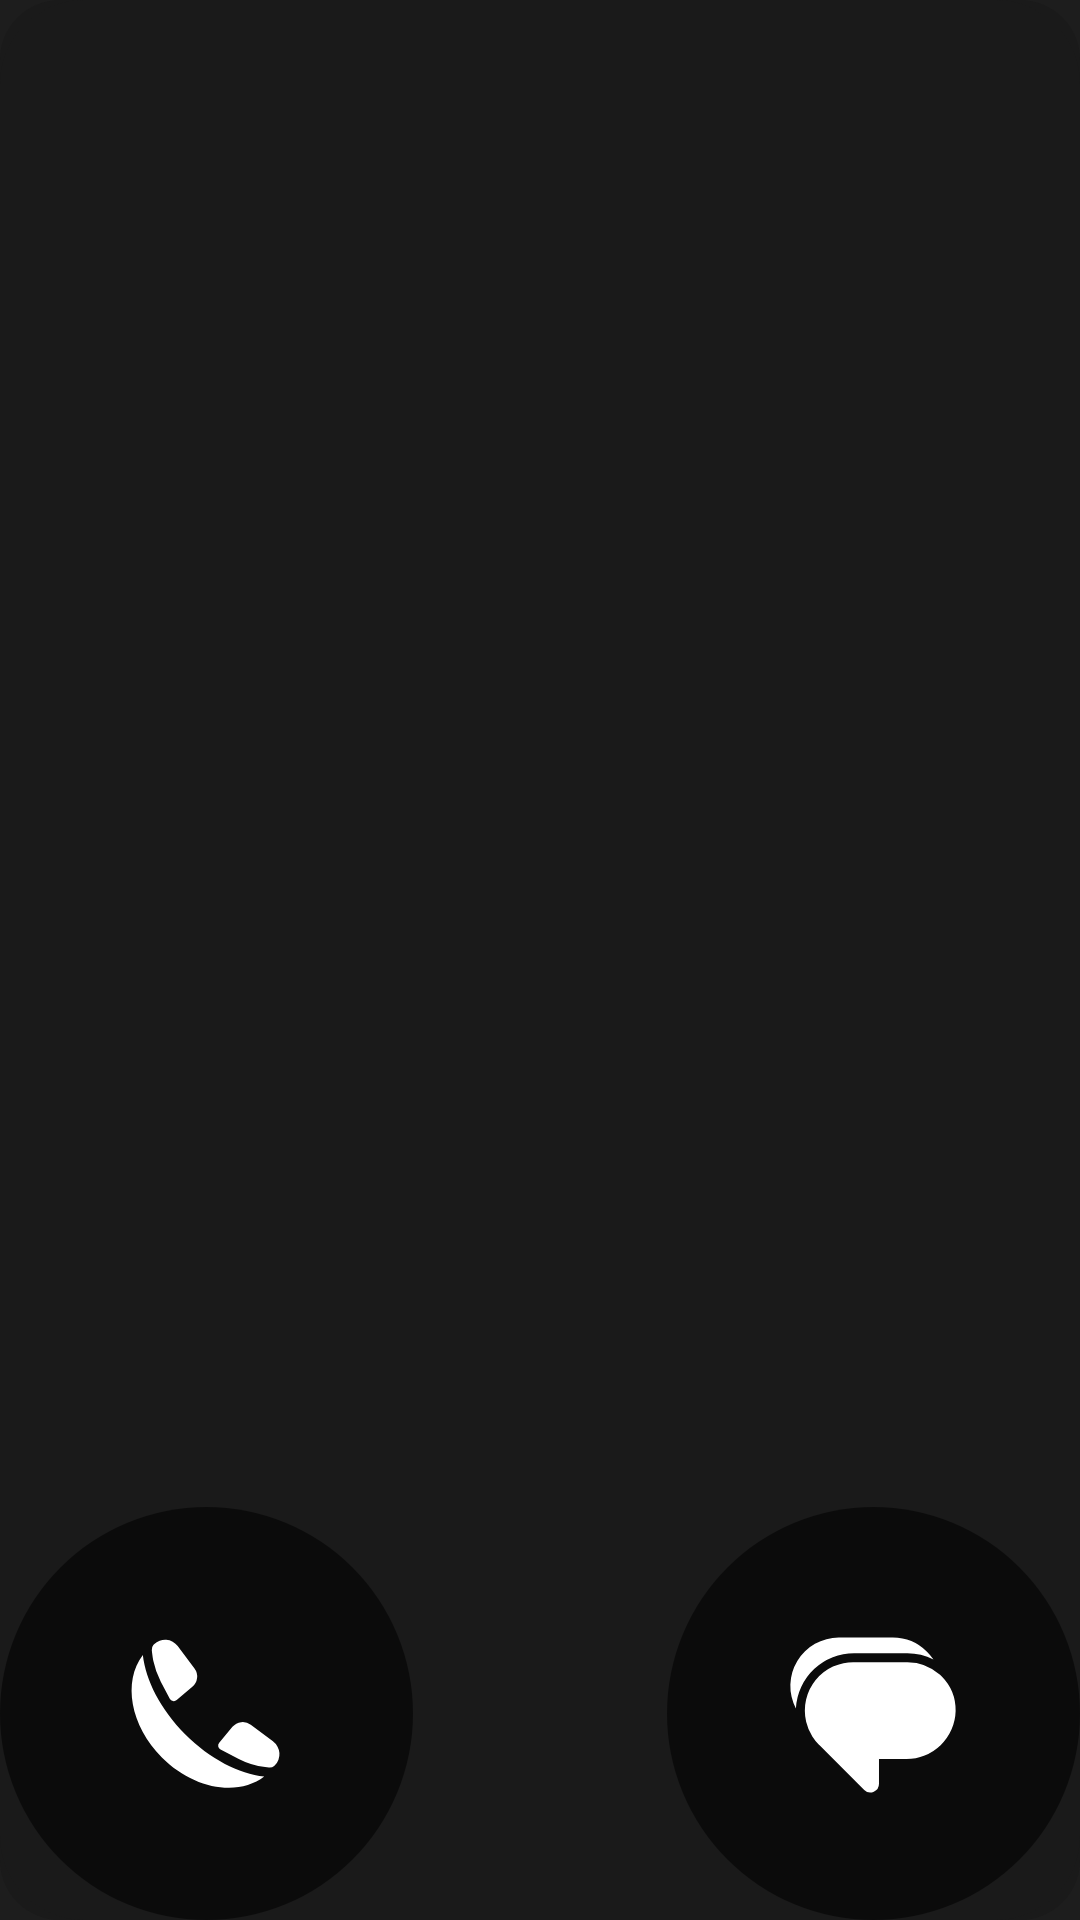

Point at icon controls on the screen. Image size 1080 × 1920, points as (x,y).
message icondd: (873,1715)
